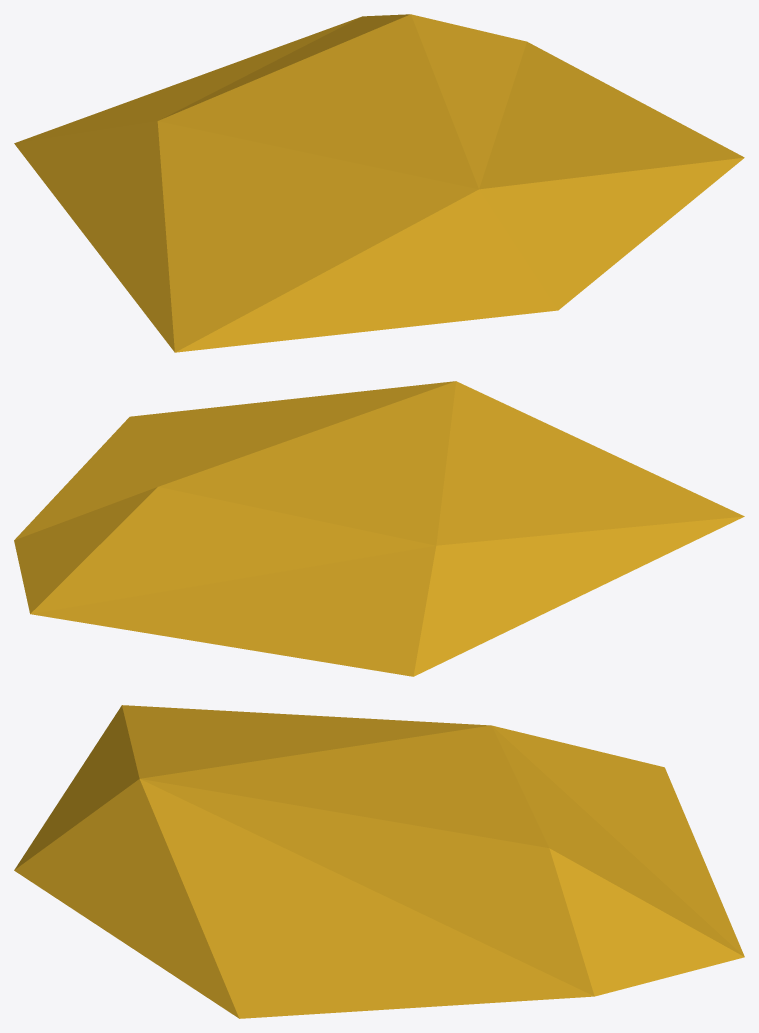
The model's file is Mucus.fbx.
3 renders of one model, top to bottom at view 1: azimuth 30°, elevation 25°; view 2: azimuth 150°, elevation 25°; view 3: azimuth 270°, elevation 25°, orthographic. The views are drawn at different scales.
Visible parts, largest first — view 1: Mucus; view 2: Mucus; view 3: Mucus.
Boxes of the visible parts, bbox=[...] form: Mucus: bbox=[14, 14, 744, 352]; Mucus: bbox=[14, 381, 744, 676]; Mucus: bbox=[14, 705, 744, 1018].
Size of the model in its own units: 232 by 32.09 by 229.
